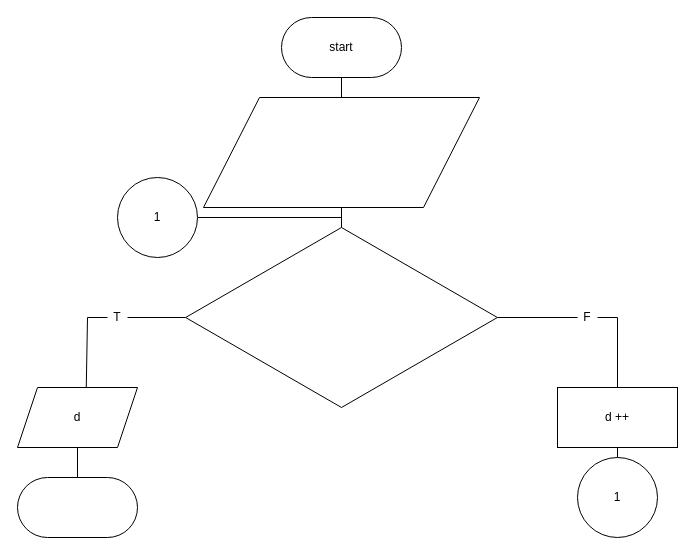
Image size: 695x555. Some labels were removed from this diagram. The shapes that lost their labels are listed below. From the top down, each one's centre as x and y in pixels, then its label:
At [341,152]: "y є N, d = 25, c = [y/100] y = y % 100".
At [341,317]: "(d + [2.6*8-0.2] + y + [y/4] + [c/4] - 2*c) mod 7 == 0".
At [77,507]: "end".
